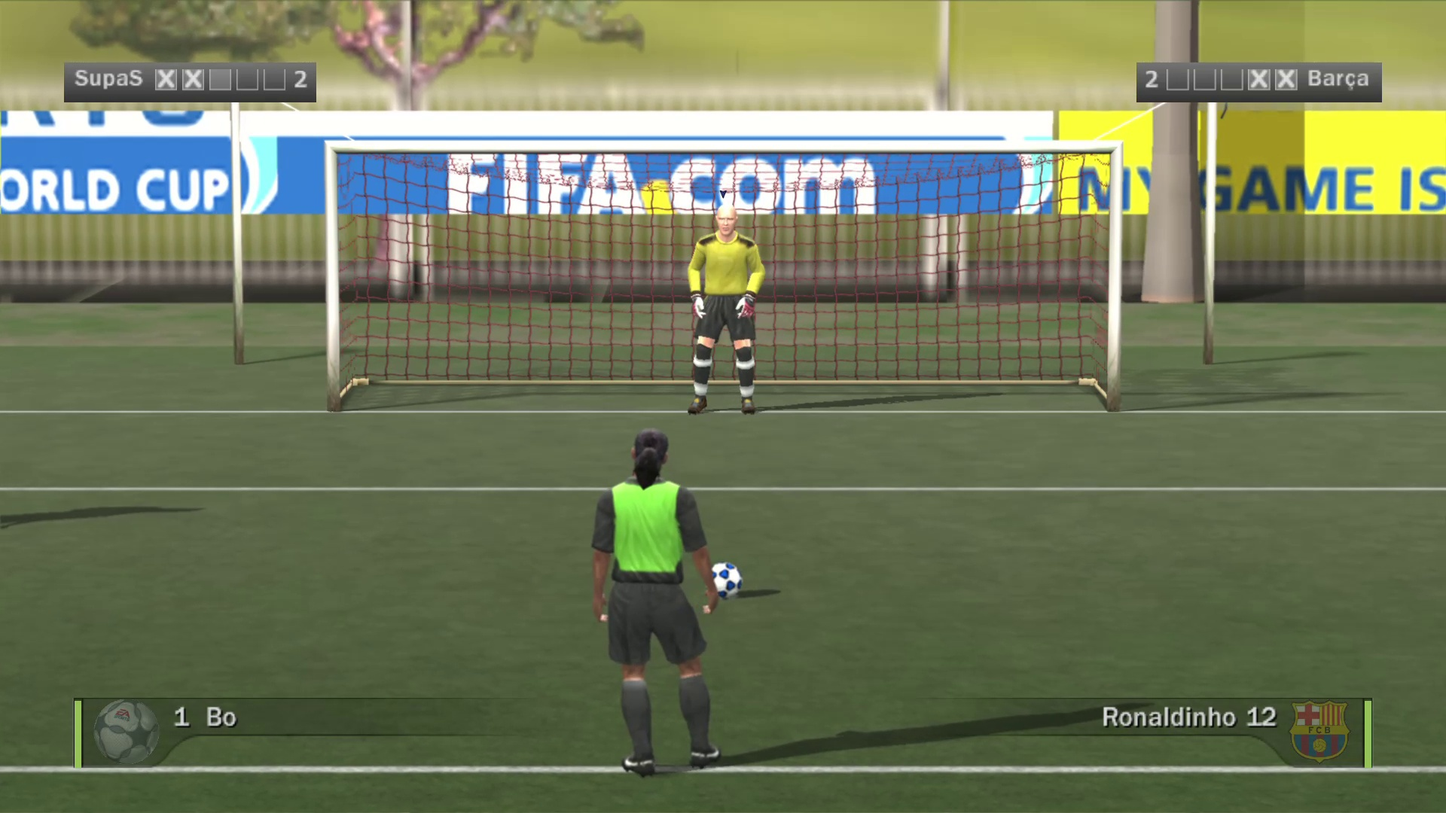ball: (694, 540, 728, 578)
goal_post: (0, 24, 720, 279)
keeper: (647, 94, 724, 306)
kicker: (518, 265, 651, 605)
